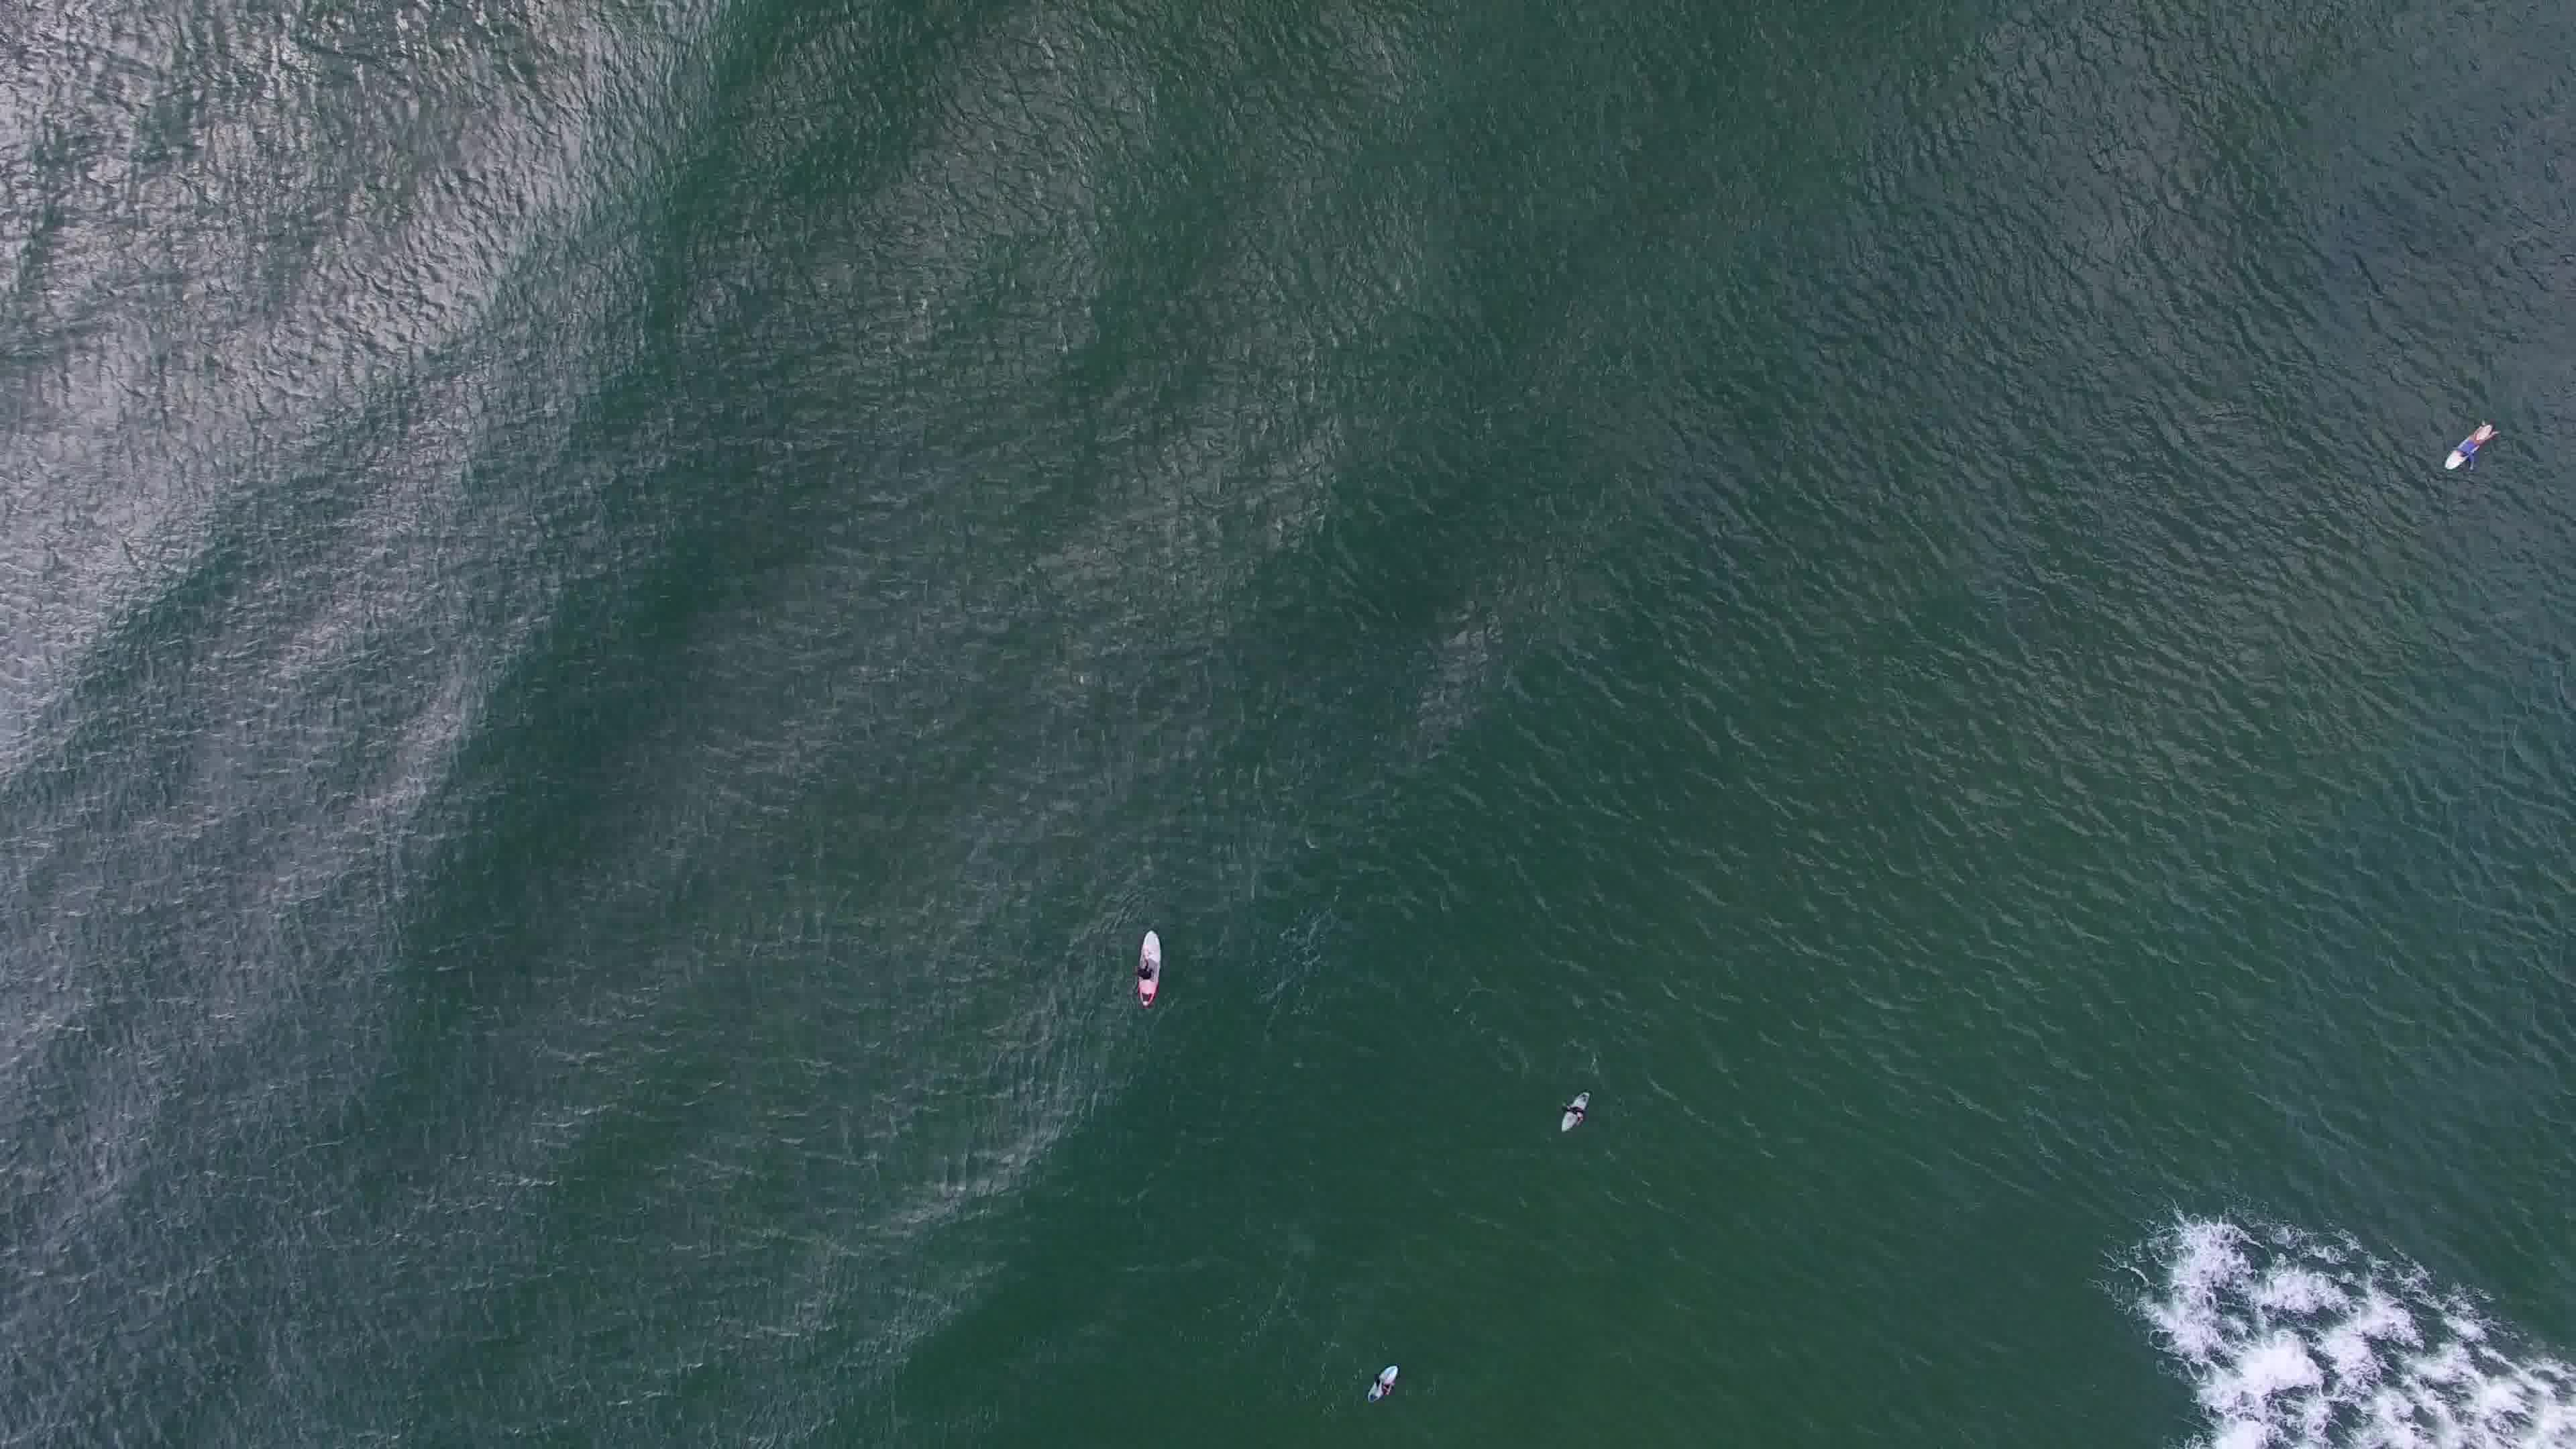surfer: (1127, 918, 1178, 1017), (2434, 414, 2507, 479), (1550, 1081, 1603, 1138), (1362, 1361, 1405, 1410)
